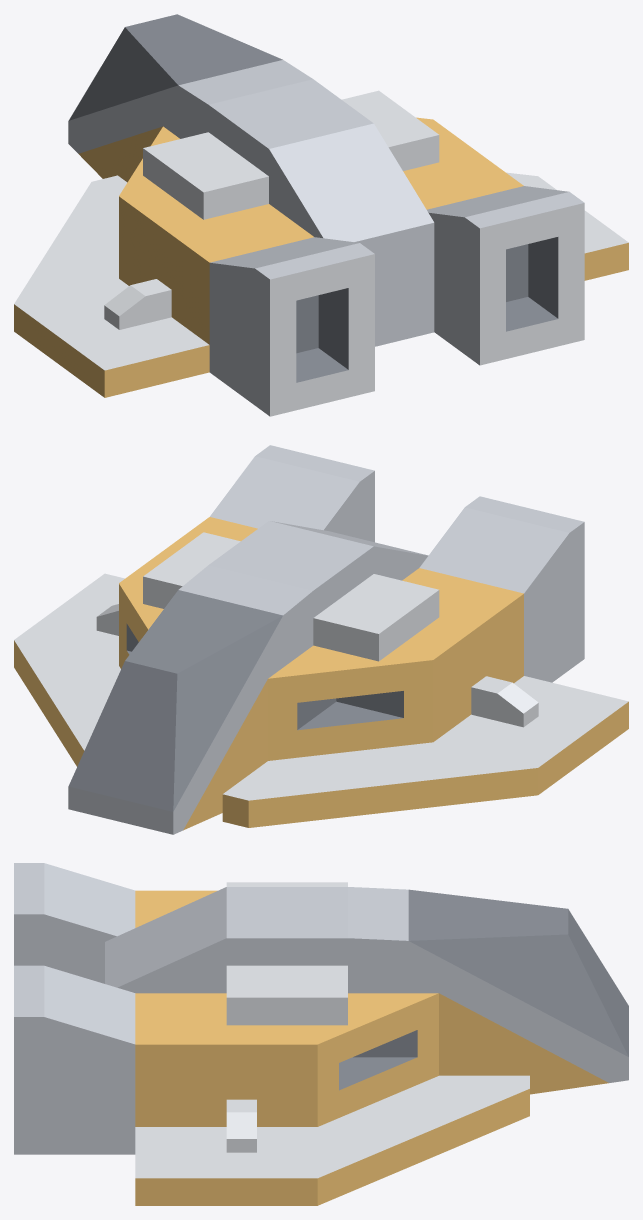
The model's file is craft_speederB.glb.
3 renders of one model, top to bottom at view 1: azimuth 30°, elevation 25°; view 2: azimuth 150°, elevation 25°; view 3: azimuth 270°, elevation 25°, orthographic.
Parts seen in each view (by area): view 1: craft_speederB; view 2: craft_speederB; view 3: craft_speederB.
Part boxes in pixels (x1=…): craft_speederB: x1=14, y1=14, x2=628, y2=416; craft_speederB: x1=14, y1=445, x2=628, y2=834; craft_speederB: x1=14, y1=863, x2=628, y2=1205.
Bounding box in the file's own units: 2 × 0.6 × 2.03.
